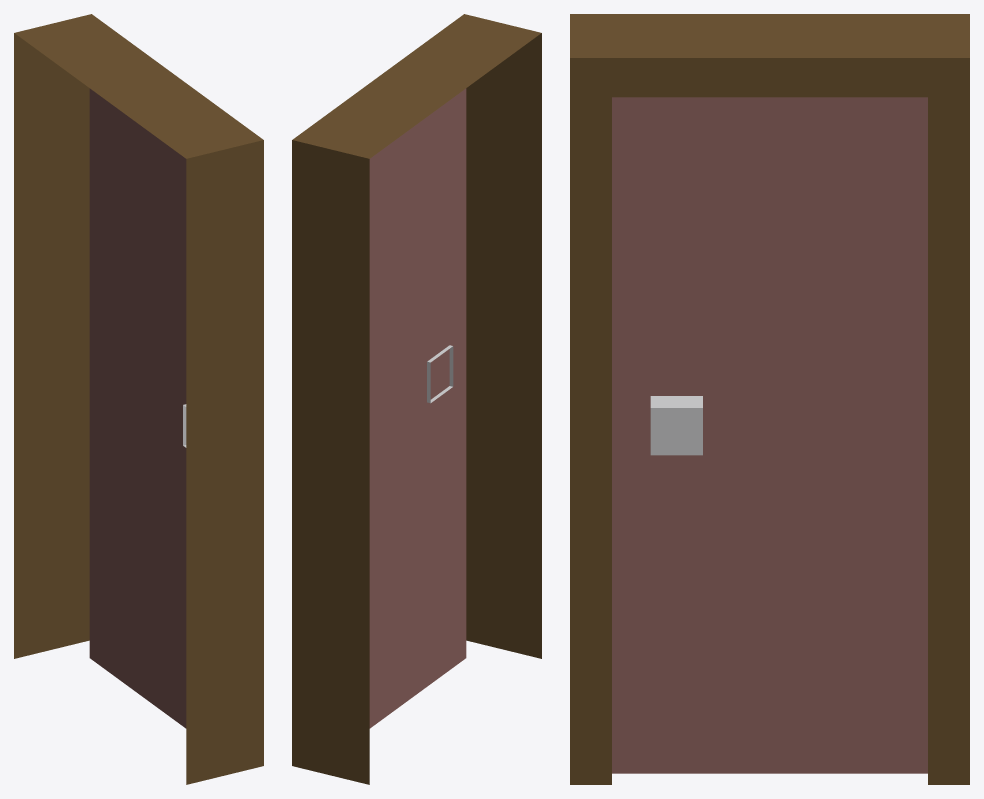
The model's file is door_2.fbx.
3 renders of one model, left to right at view 1: azimuth 30°, elevation 25°; view 2: azimuth 150°, elevation 25°; view 3: azimuth 270°, elevation 25°, orthographic. The views are drawn at different scales.
Visible parts, largest first — view 1: door_2; view 2: door_2; view 3: door_2.
Boxes of the visible parts, x1,y1,x2,y2 form: door_2: (14,14,263,784); door_2: (292,14,541,784); door_2: (570,14,969,784).
Size of the model in its own units: 50 by 381 by 190.
